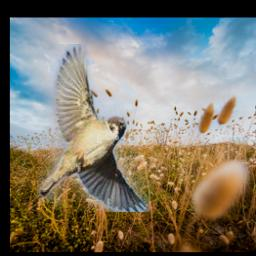Sparrow: (38, 45, 150, 213)
